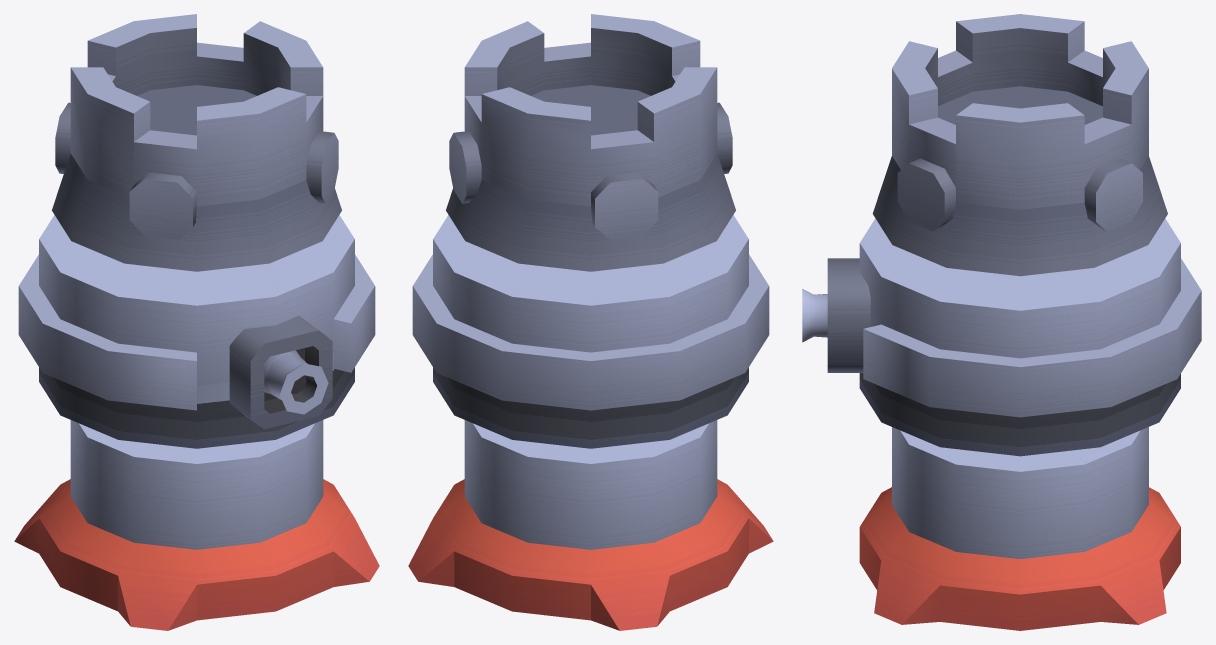
File: catapult_3.glb
3 renders of one model, left to right at view 1: azimuth 30°, elevation 25°; view 2: azimuth 150°, elevation 25°; view 3: azimuth 270°, elevation 25°, orthographic.
Visible parts, largest first — view 1: catapult_3; view 2: catapult_3; view 3: catapult_3.
Boxes of the visible parts, x1,y1,x2,y2 form: catapult_3: (14,14,379,630); catapult_3: (408,14,773,630); catapult_3: (802,14,1201,630).
Size of the model in its own units: 1.13 by 1.7 by 1.24.
Materials: 3 (3 with a texture image).
